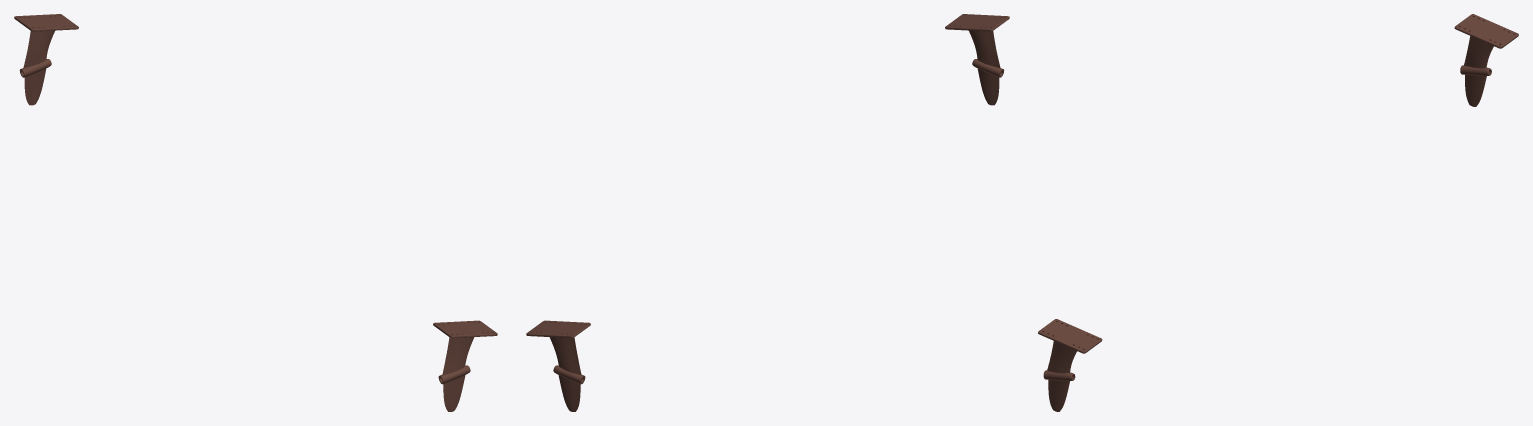
The model's file is PROPULSION__SIMPLIFIED STRUT.glb.
The picture shows the model from 3 angles, left to right: view 1: azimuth 30°, elevation 25°; view 2: azimuth 150°, elevation 25°; view 3: azimuth 330°, elevation 25°; orthographic projection.
Visible parts, largest first — view 1: brep_9 (×2); view 2: brep_9 (×2); view 3: brep_9 (×2).
Part boxes in pixels (left/top/right/bottom): brep_9 (×2): left=14, top=14, right=497, bottom=411; brep_9 (×2): left=526, top=14, right=1009, bottom=411; brep_9 (×2): left=1038, top=14, right=1518, bottom=411.
Bounding box in the file's own units: 0.3079 × 0.5096 × 4.78.
